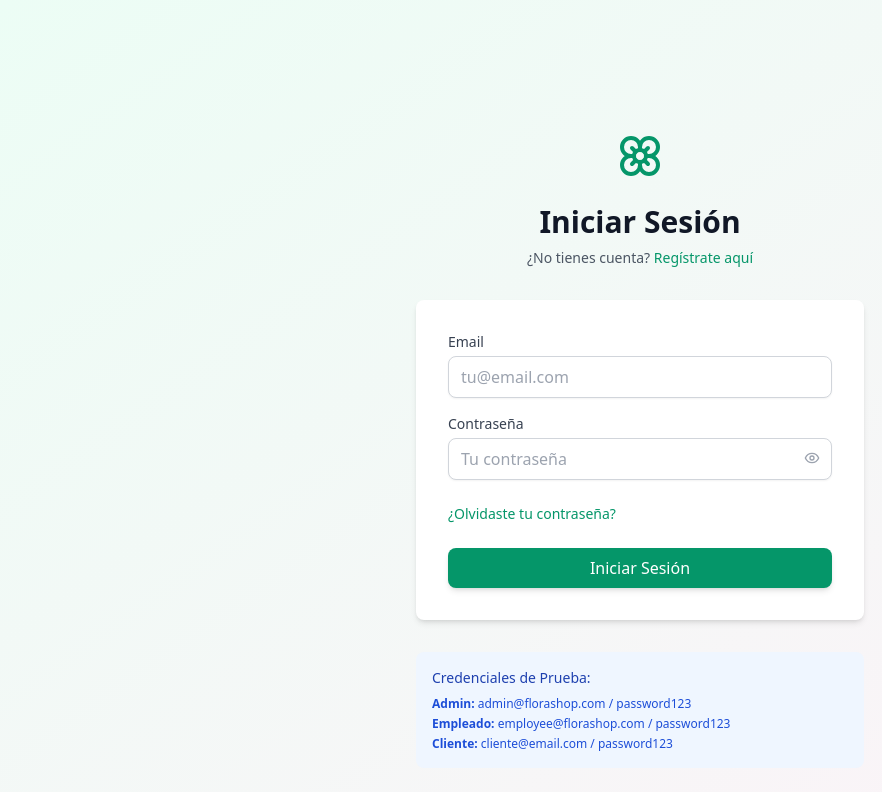
Test: LoginPage › shows validation errors for empty fields
Click the button "Iniciar Sesión".
click(640, 568)  # box [448,548,832,588]
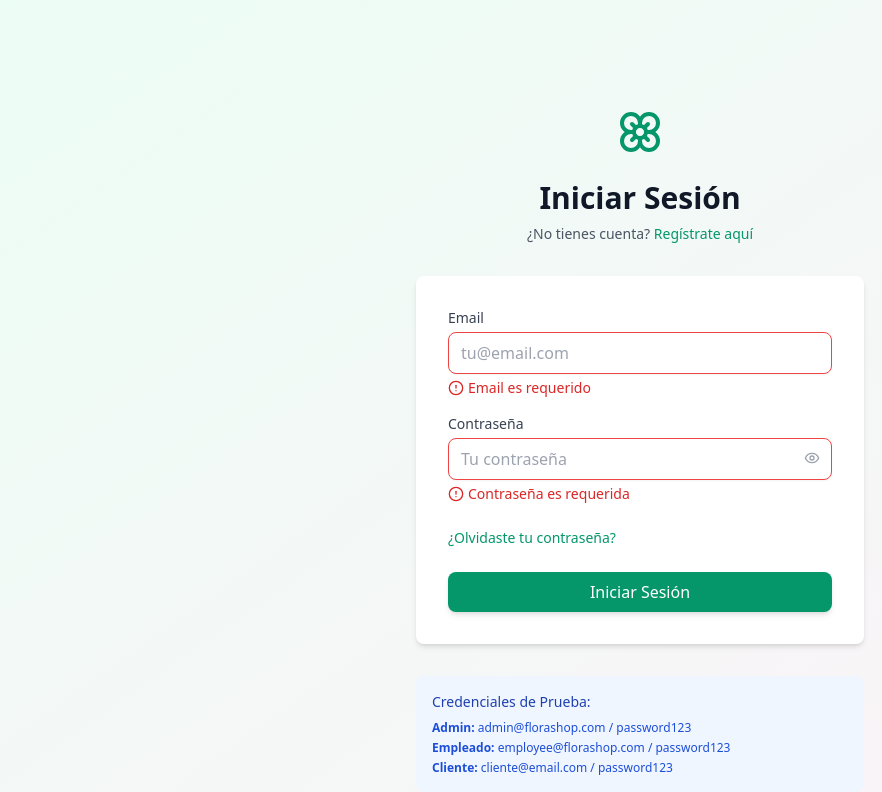
Check: the text "Email es requerido" is shown, box [448,378,591,397]
Check: the text "Contraseña es requerida" is shown, box [448,484,630,503]
